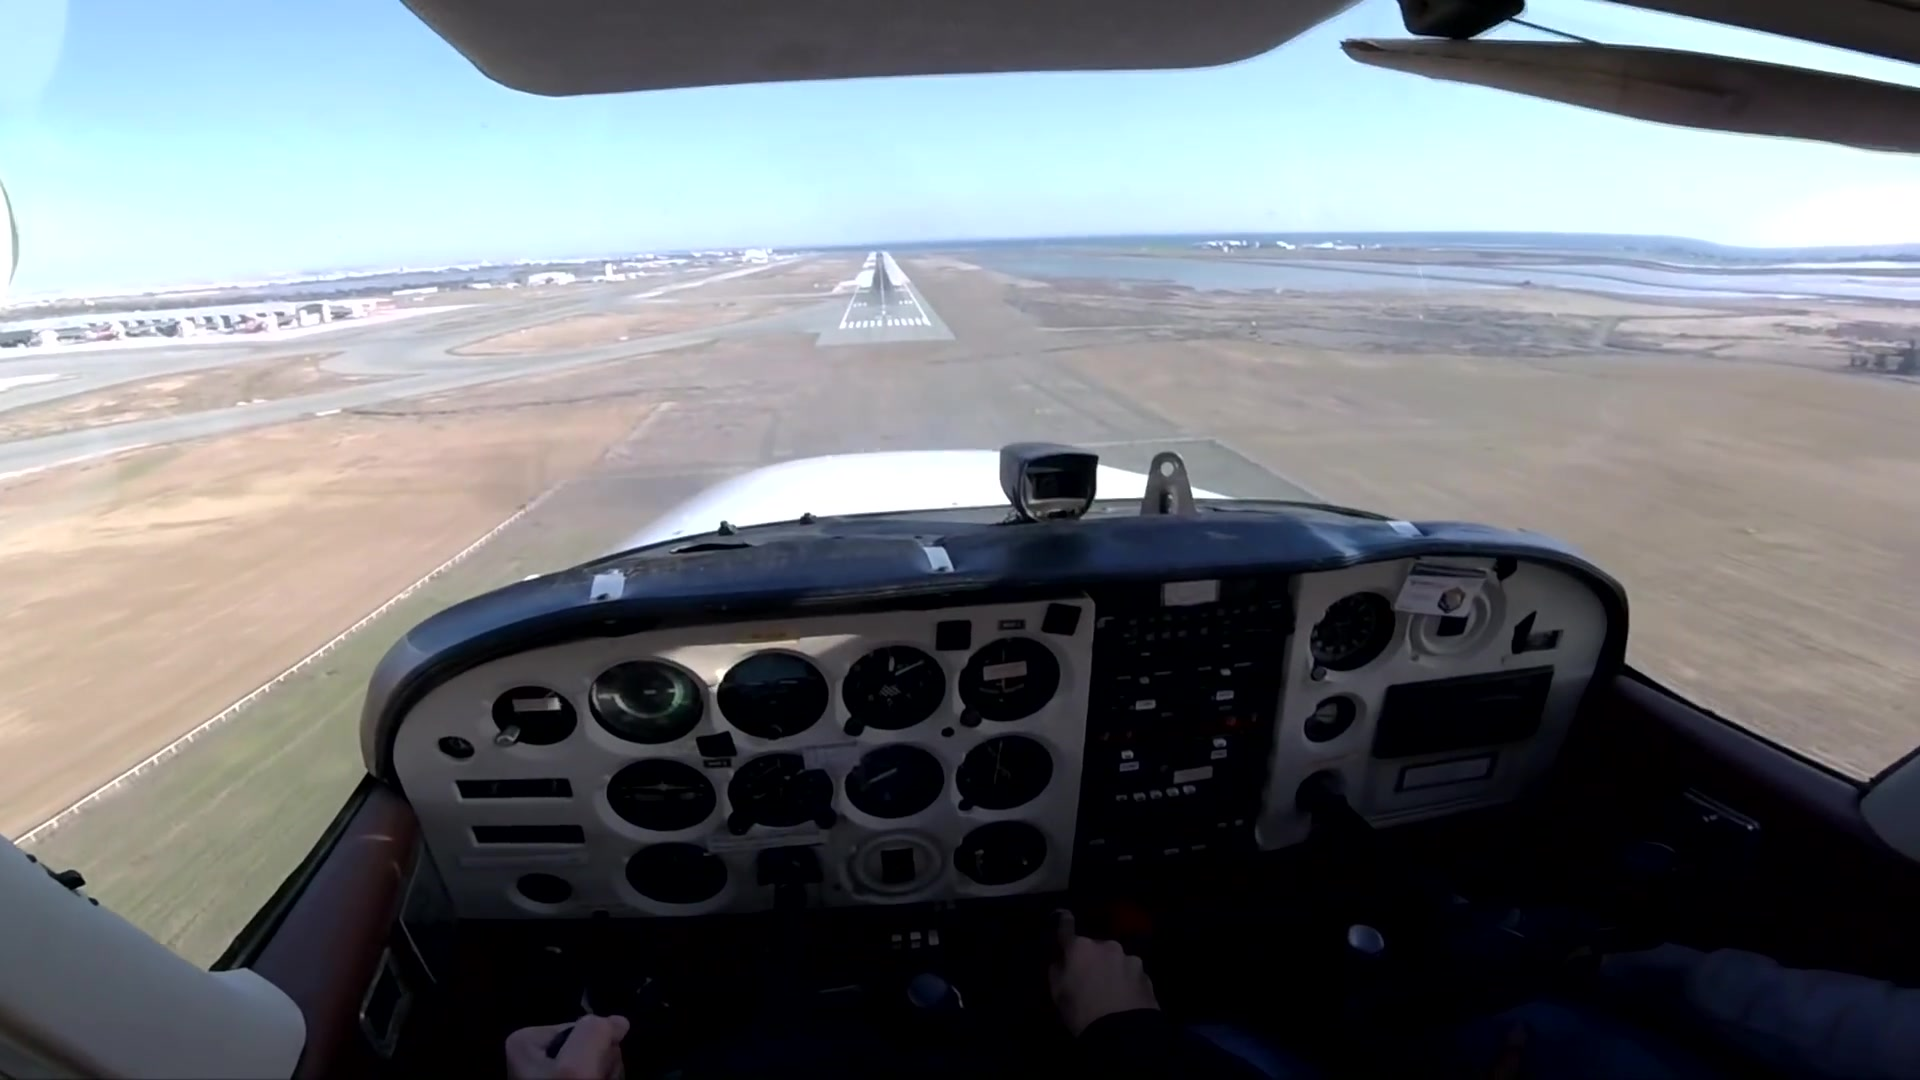entrance: (843, 318, 939, 331)
runway: (820, 252, 951, 345)
